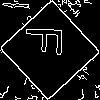F: (25, 25, 72, 57)
